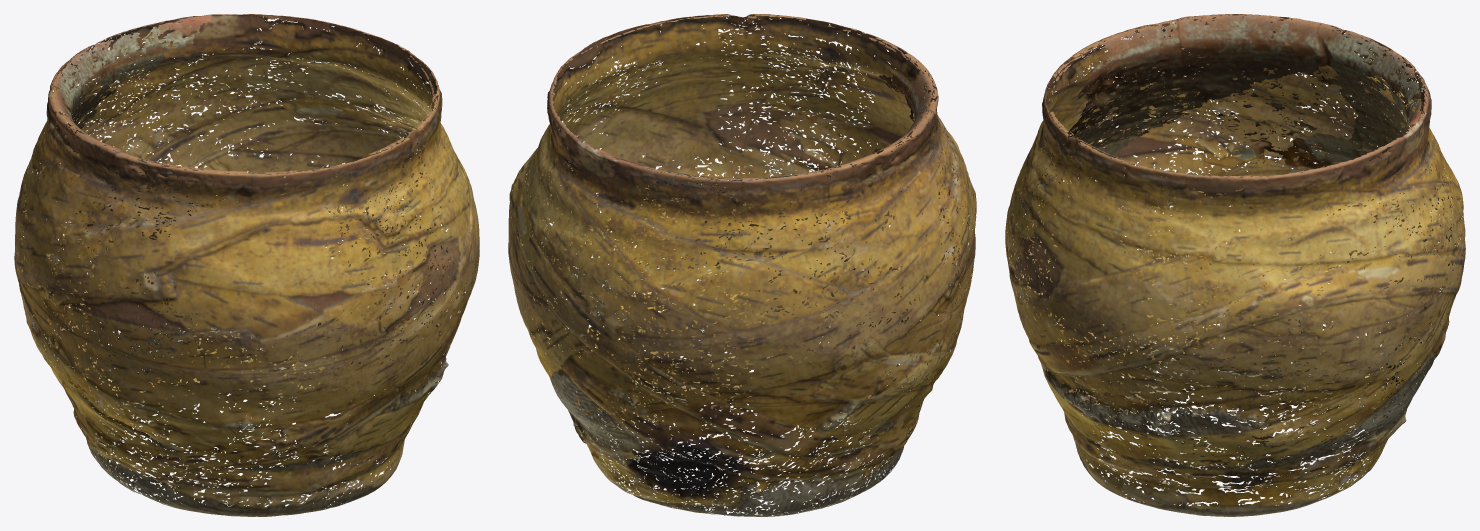
The model's file is vase_ultra_decimatet.glb.
The picture shows the model from 3 angles, left to right: view 1: azimuth 30°, elevation 25°; view 2: azimuth 150°, elevation 25°; view 3: azimuth 270°, elevation 25°; orthographic projection.
Visible parts, largest first — view 1: vase; view 2: vase; view 3: vase.
Boxes of the visible parts, x1,y1,x2,y2 form: vase: (14, 14, 479, 516); vase: (508, 14, 976, 516); vase: (1005, 14, 1465, 516).
Size of the model in its own units: 7.65 by 6.63 by 7.6.
1 material, 1 textured.
